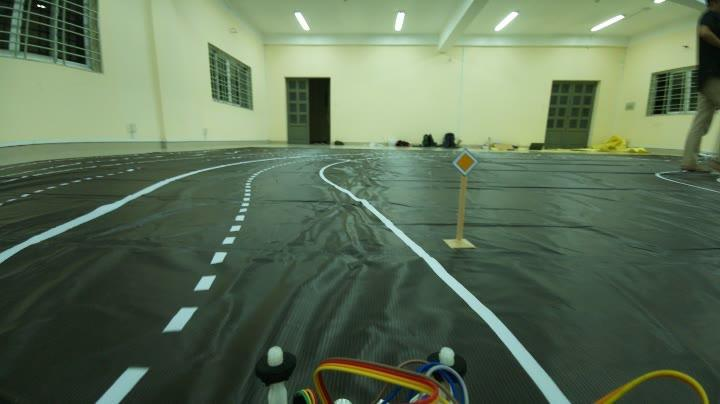priority: (447, 146, 483, 182)
